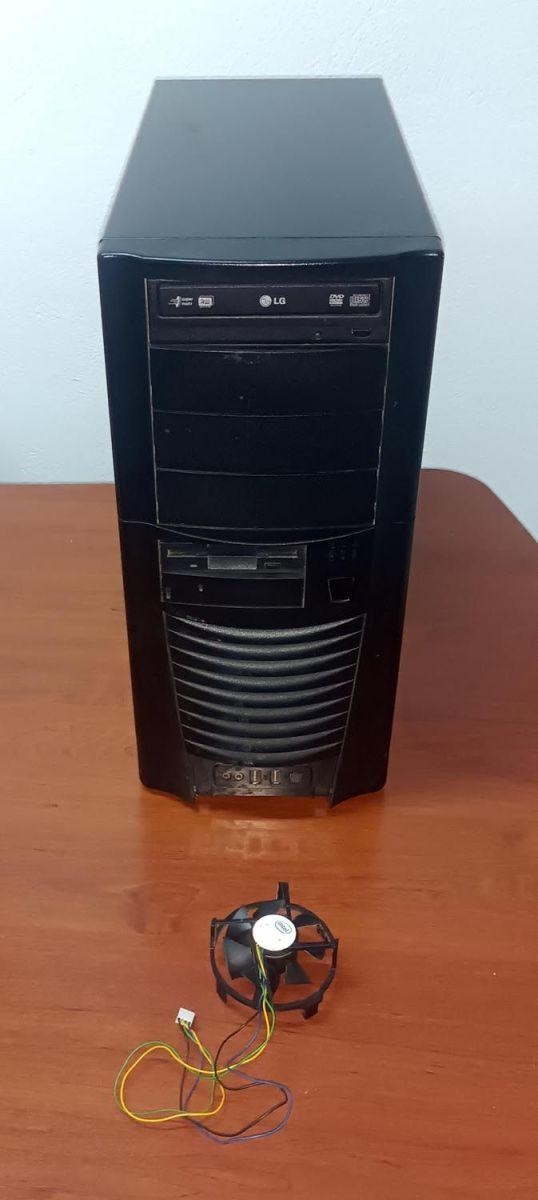DESKTOP PC: (95, 77, 436, 815)
